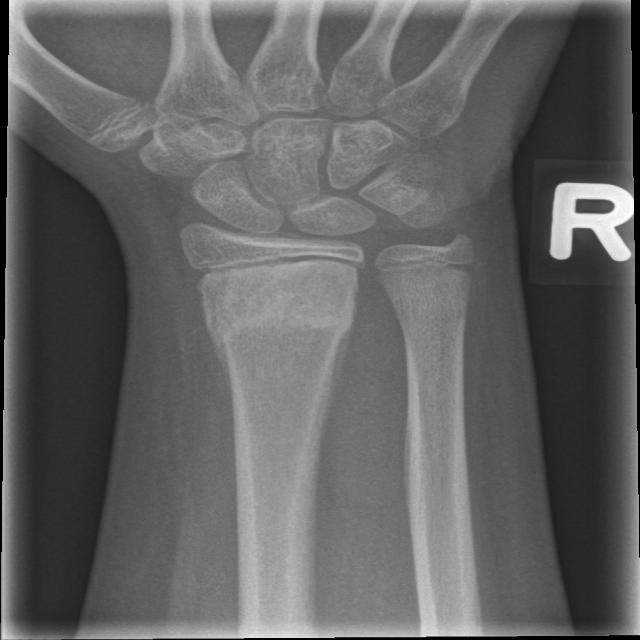radius fracture: (194, 288, 364, 394)
